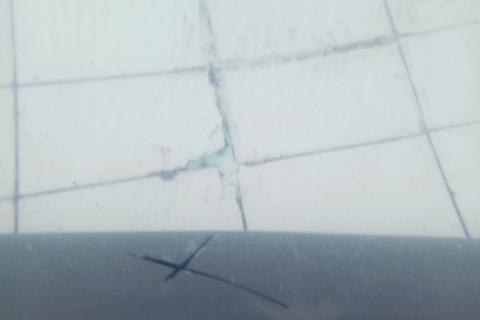keretakan: (130, 234, 291, 310)
